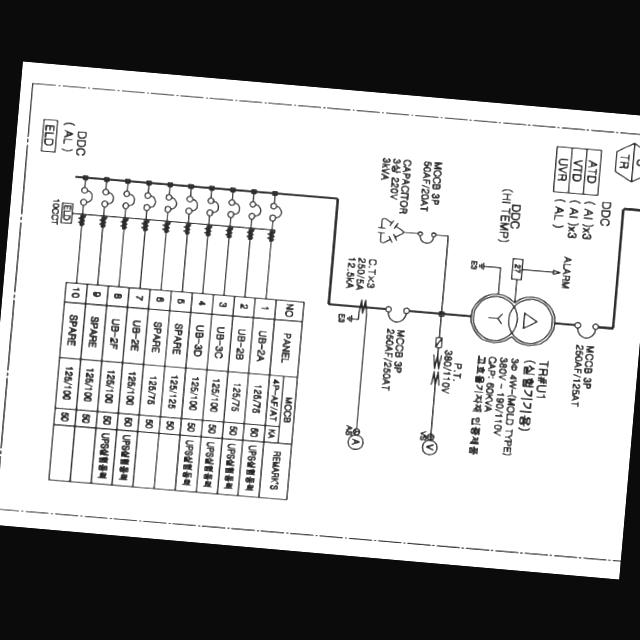A: (347, 434, 362, 450)
AS: (352, 428, 358, 434)
CT: (355, 298, 368, 314)
GND: (344, 314, 351, 323), (477, 262, 484, 270)
MCCB: (572, 321, 598, 339), (384, 306, 408, 323), (226, 198, 240, 218), (164, 192, 178, 212), (184, 195, 198, 214), (268, 202, 281, 220), (205, 198, 218, 216), (142, 192, 155, 210), (122, 191, 135, 209), (248, 202, 262, 218), (416, 232, 434, 244), (101, 189, 113, 207), (80, 187, 92, 205)
PF2: (434, 336, 442, 348)
PT: (428, 354, 442, 386)
SC: (375, 217, 403, 244)
V: (421, 440, 436, 456)
VS: (426, 432, 434, 440)
